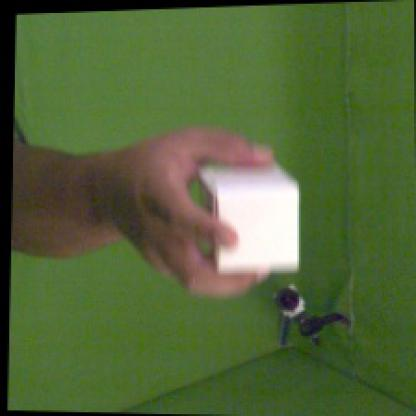Hand: (99, 124, 275, 299)
